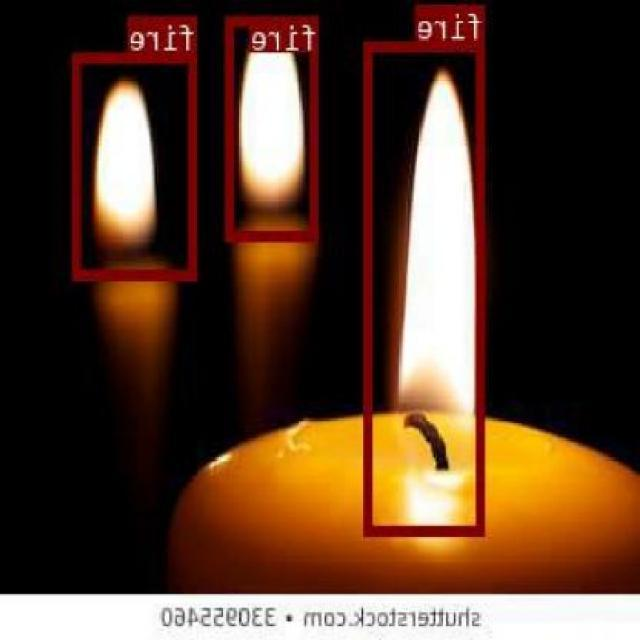fire: (366, 40, 486, 534), (75, 50, 198, 278), (228, 14, 320, 238)
